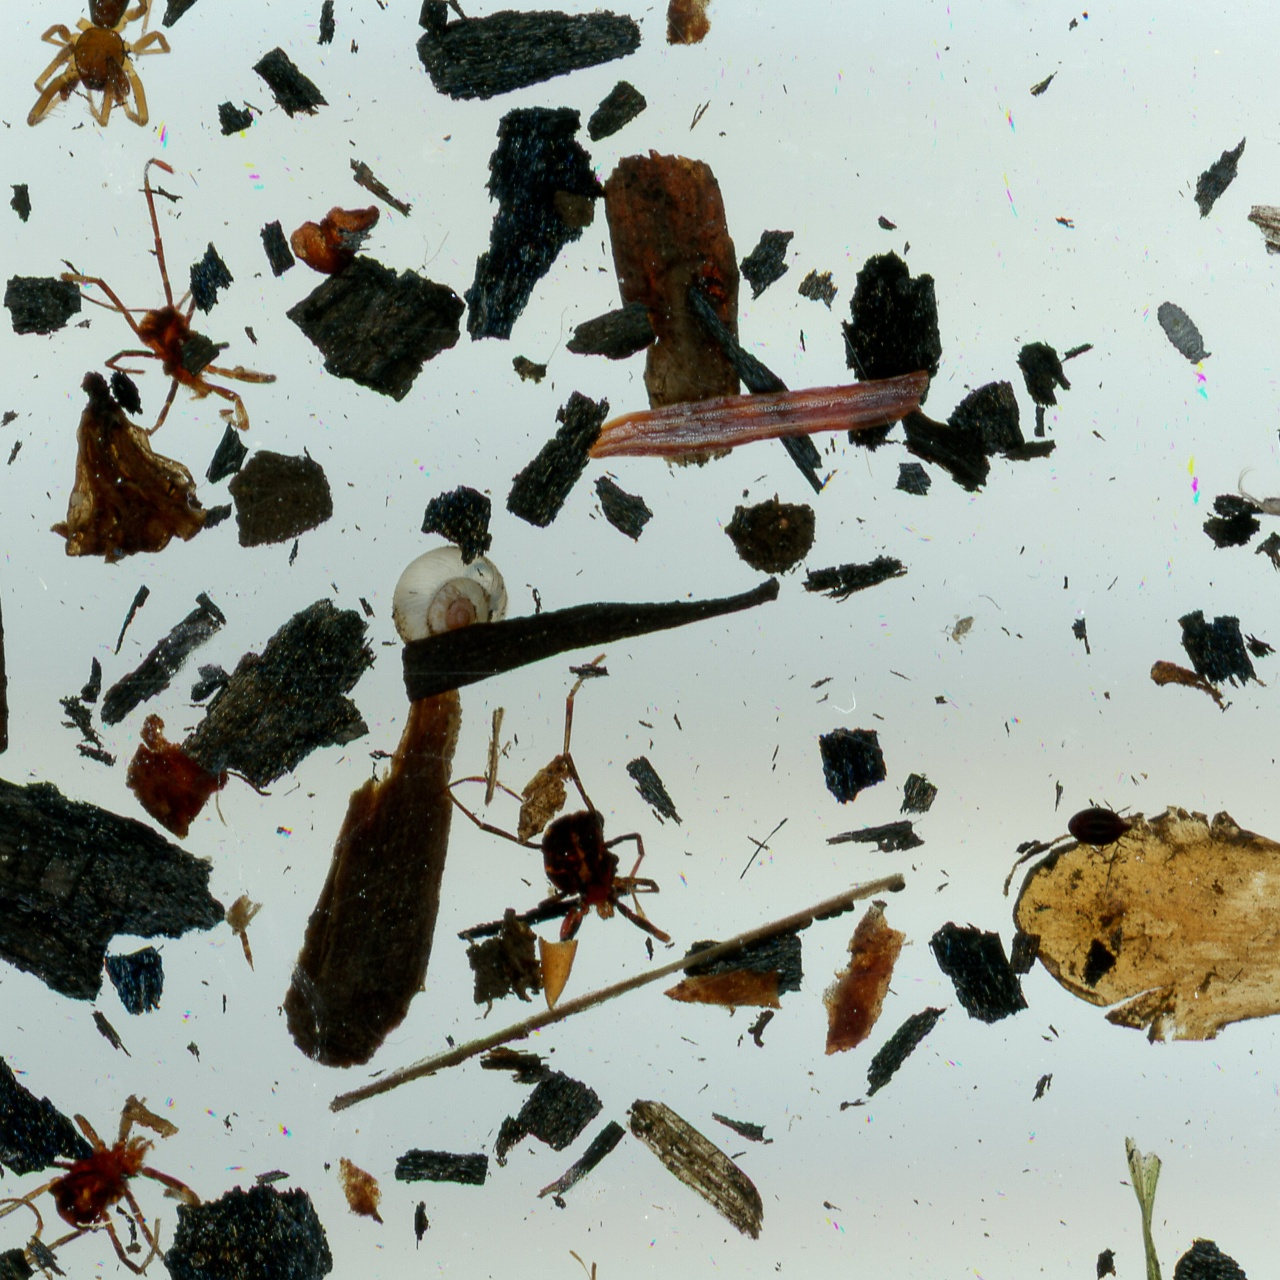arthropod: (442, 648, 684, 946), (57, 152, 281, 437), (0, 1089, 208, 1280), (23, 0, 173, 131), (375, 526, 529, 653), (1147, 288, 1219, 375), (1065, 798, 1154, 853), (1234, 464, 1280, 558), (939, 611, 979, 647)
